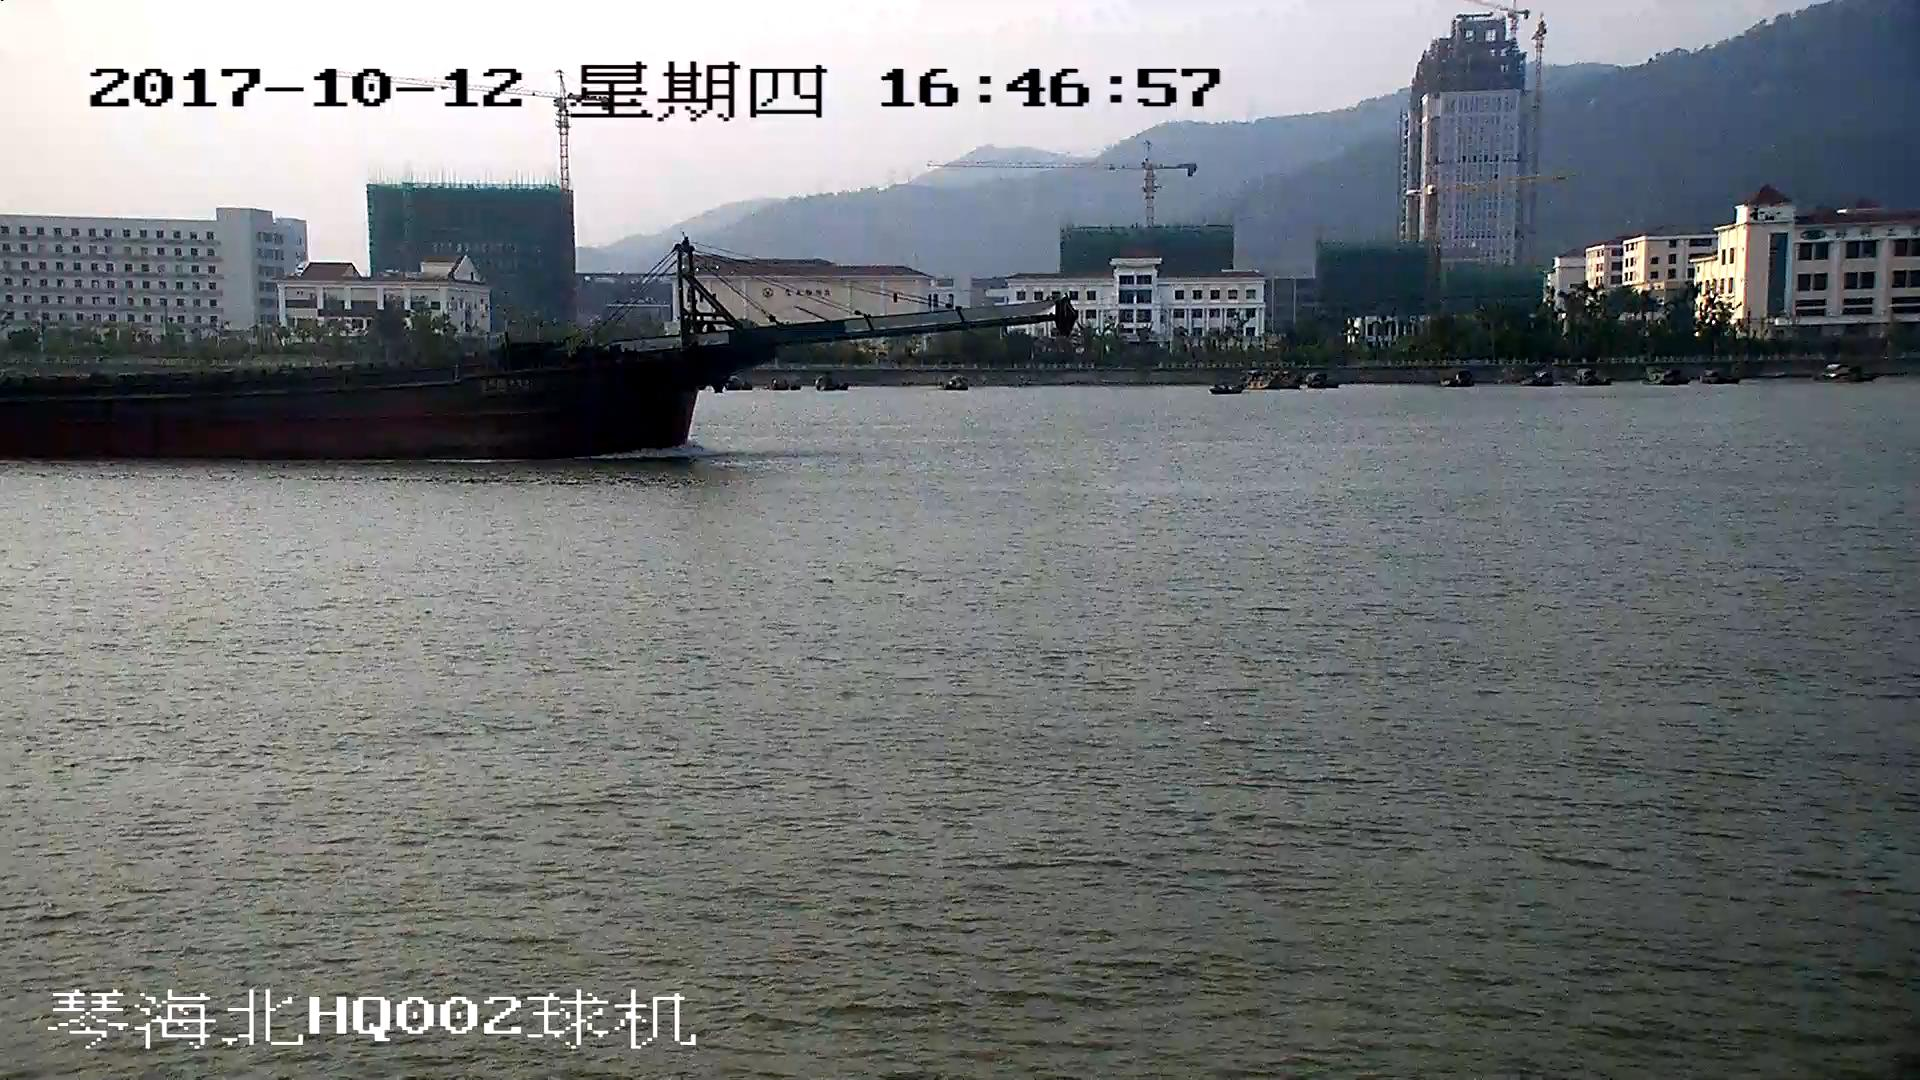bulk cargo carrier: (1, 245, 1068, 458)
